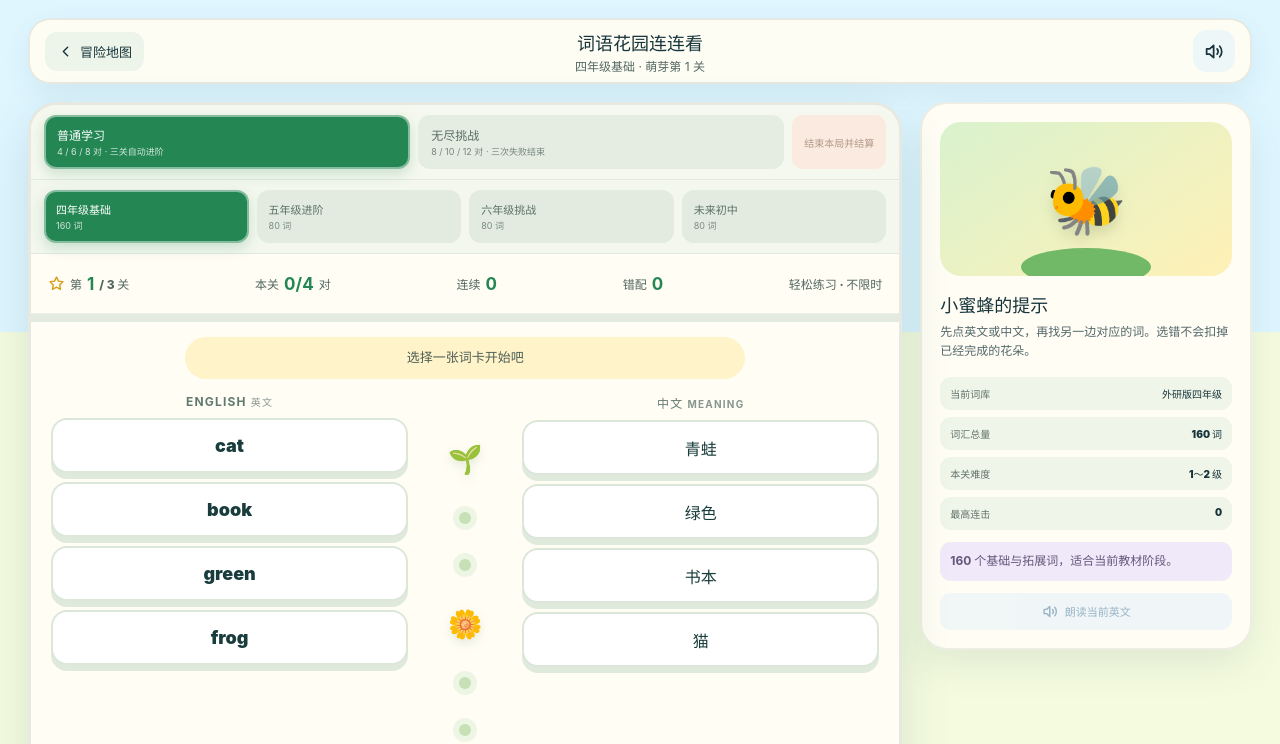
Test case: MatchGamePage › retries the same endless round after timeouts and stops exactly on the third failure
The image size is (1280, 744).
Click the button "无尽挑战 8 / 10 / 12 对 · 三次失败结束": (455, 136) [418,115,784,169]
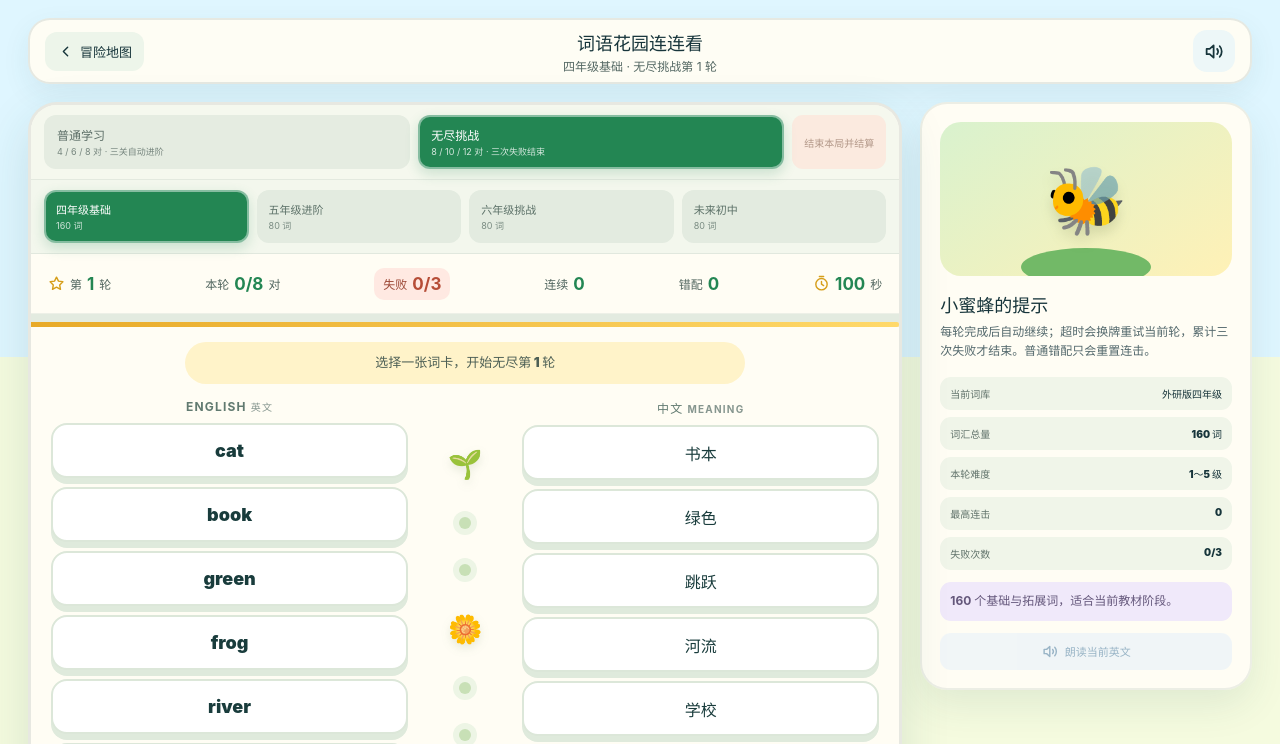
Click the button "cat": (230, 450) [51,423,408,478]
Wait 1000 ms
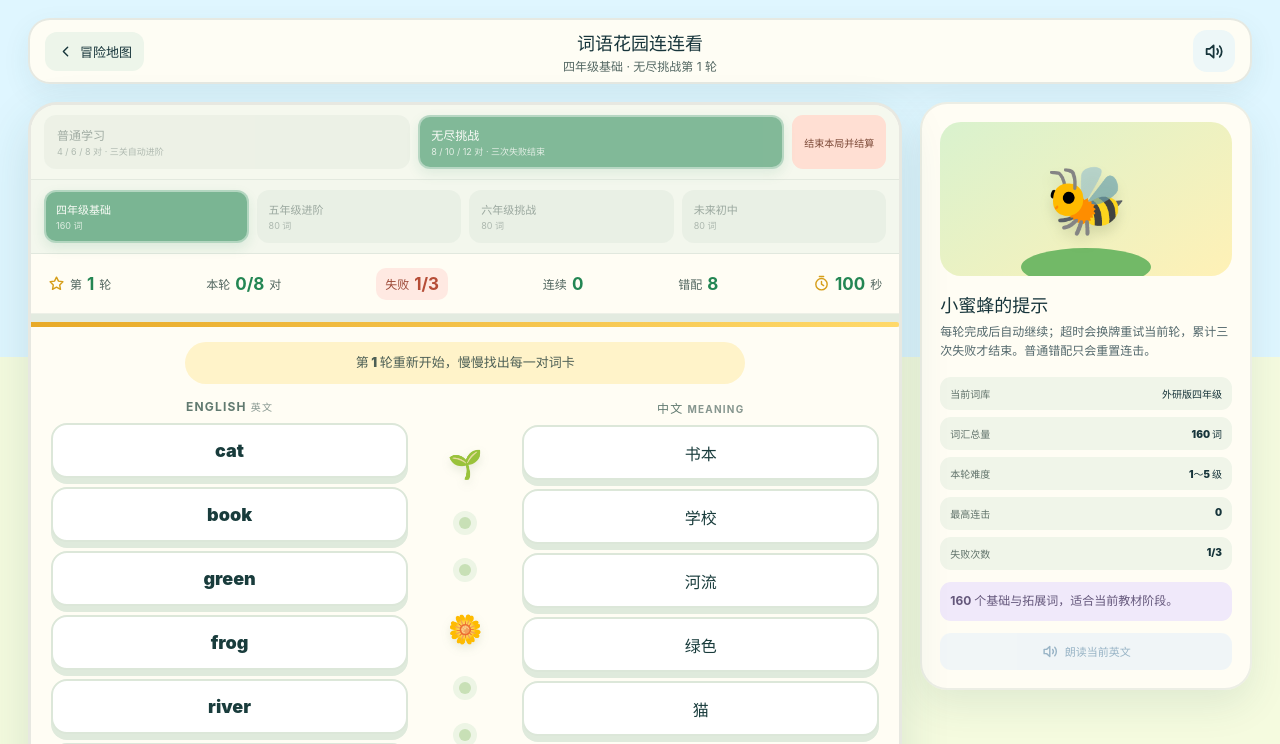
Expected: the text "第 1 轮超时，失败 1/3，即将换牌重试" is shown, [185,342,745,384]
Expected: the element showing "第 1 轮 本轮 0/8 对 失败 1/3 连续 0 错配 8 100 秒" is shown, [31,254,899,314]
Expected: the element named "失败 1 次，最多 3 次" is shown, [376,268,448,300]
Click the button "cat": (230, 450) [51,423,408,478]
Wait 1000 ms
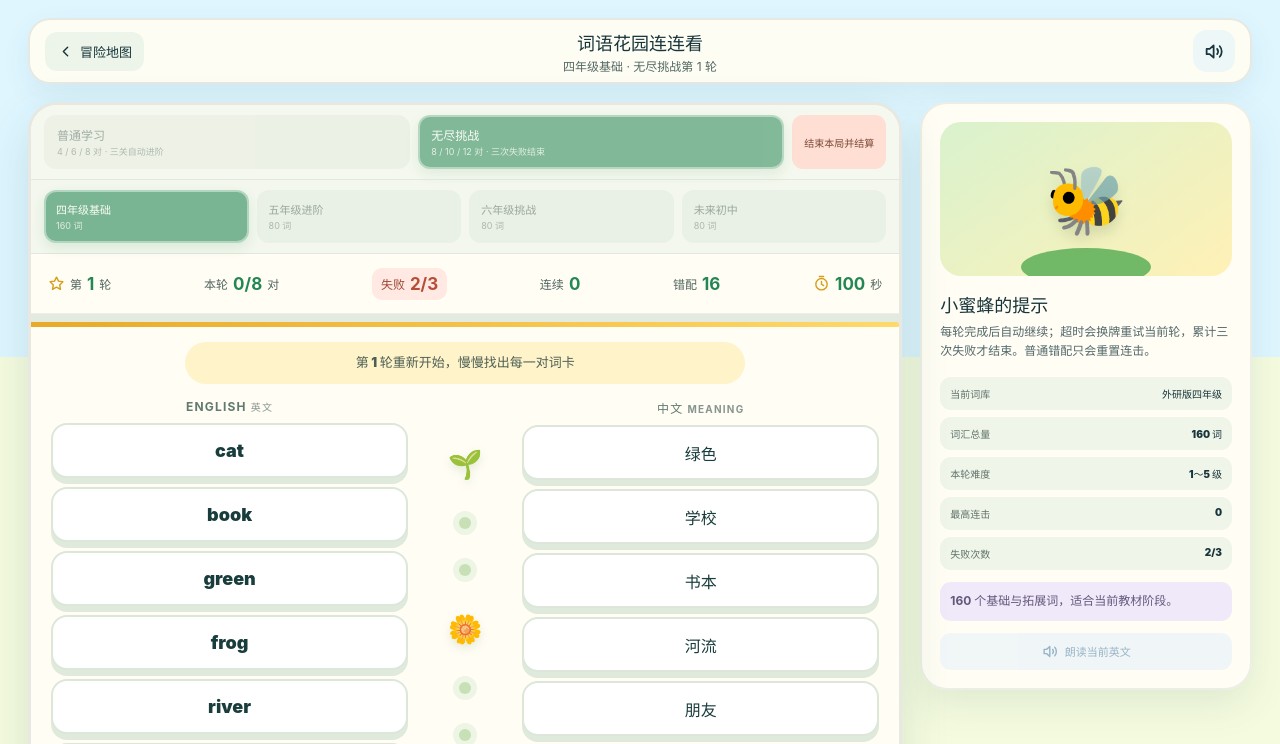
Expected: the element showing "第 1 轮 本轮 0/8 对 失败 2/3 连续 0 错配 16 100 秒" is shown, [31,254,899,314]
Expected: the element named "失败 2 次，最多 3 次" is shown, [372,268,447,300]
Click the button "cat": (230, 450) [51,423,408,478]
Wait 60100 ms
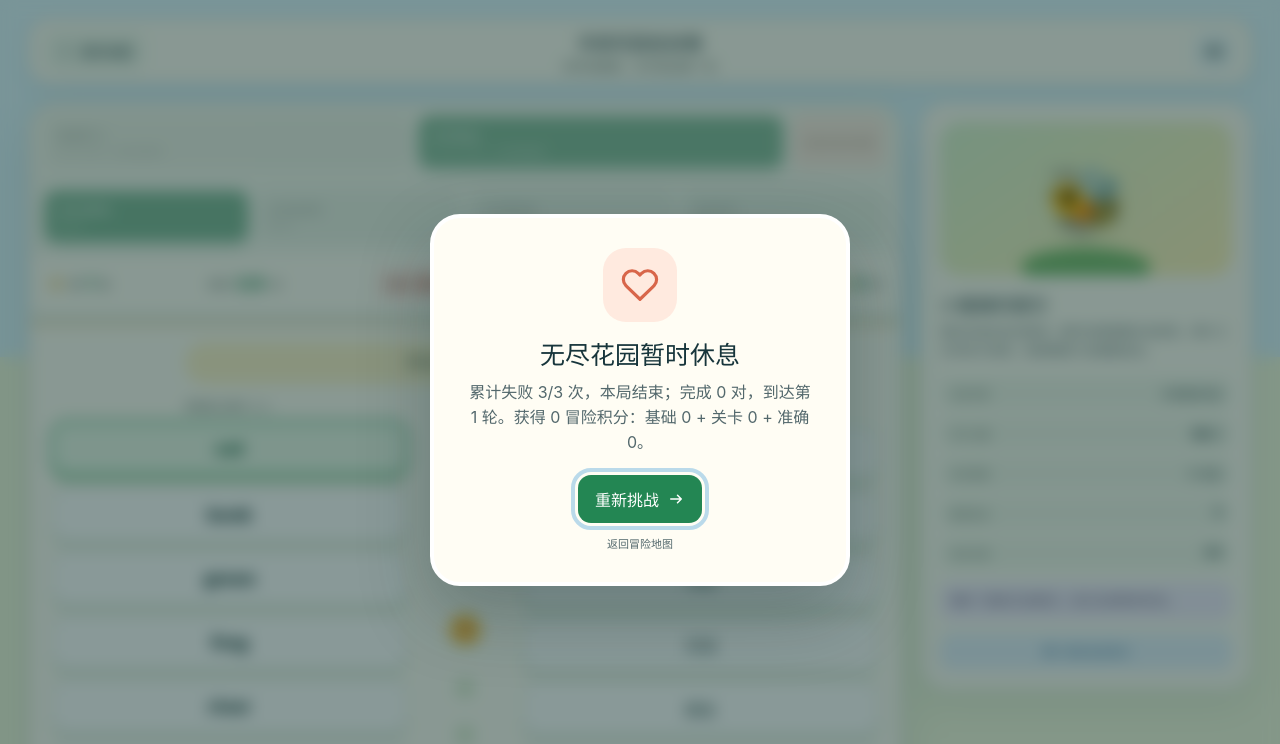
Expected: the element named "失败 3 次，最多 3 次" is shown, [378,268,453,300]
Expected: the heading "无尽花园暂时休息" is shown, [540,340,740,370]
Expected: the text "累计失败 3/3 次，本局结束；完成 0 对，到达第 1 轮。获得 0 冒险积分：基础 0 + 关卡 0 + 准确 0。" is shown, [464,380,816,455]
